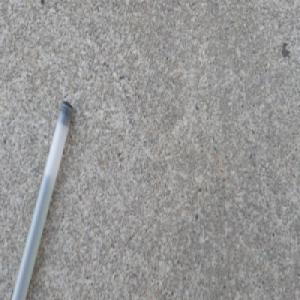Pen: (7, 98, 75, 300)
